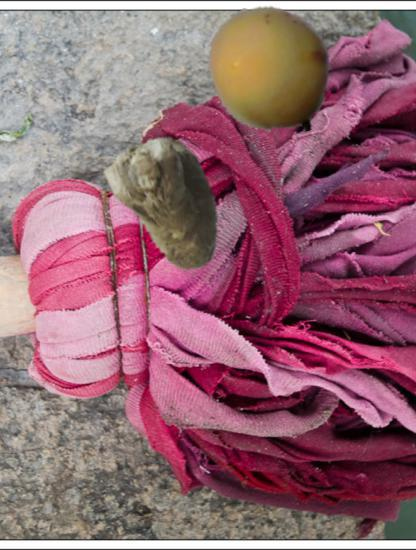Ginger: (96, 134, 240, 278)
Pepino: (204, 3, 340, 139)
